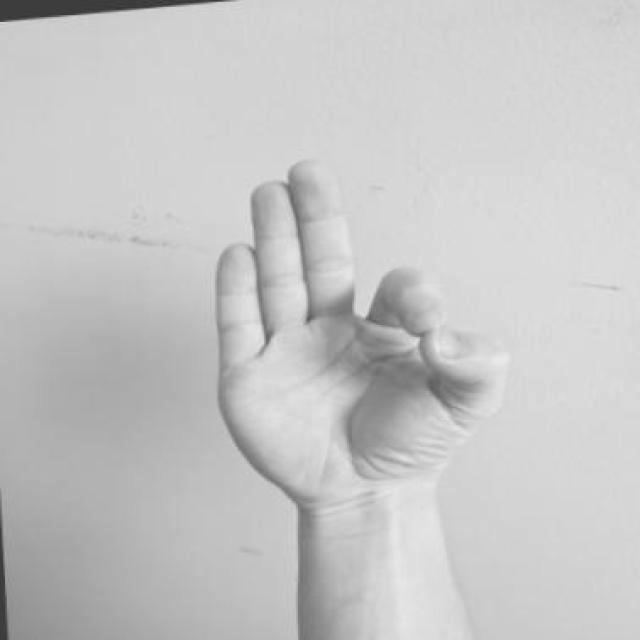F: (193, 137, 533, 527)
